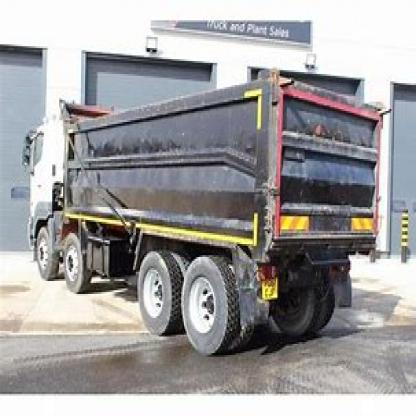dump_truck: (13, 70, 406, 357)
